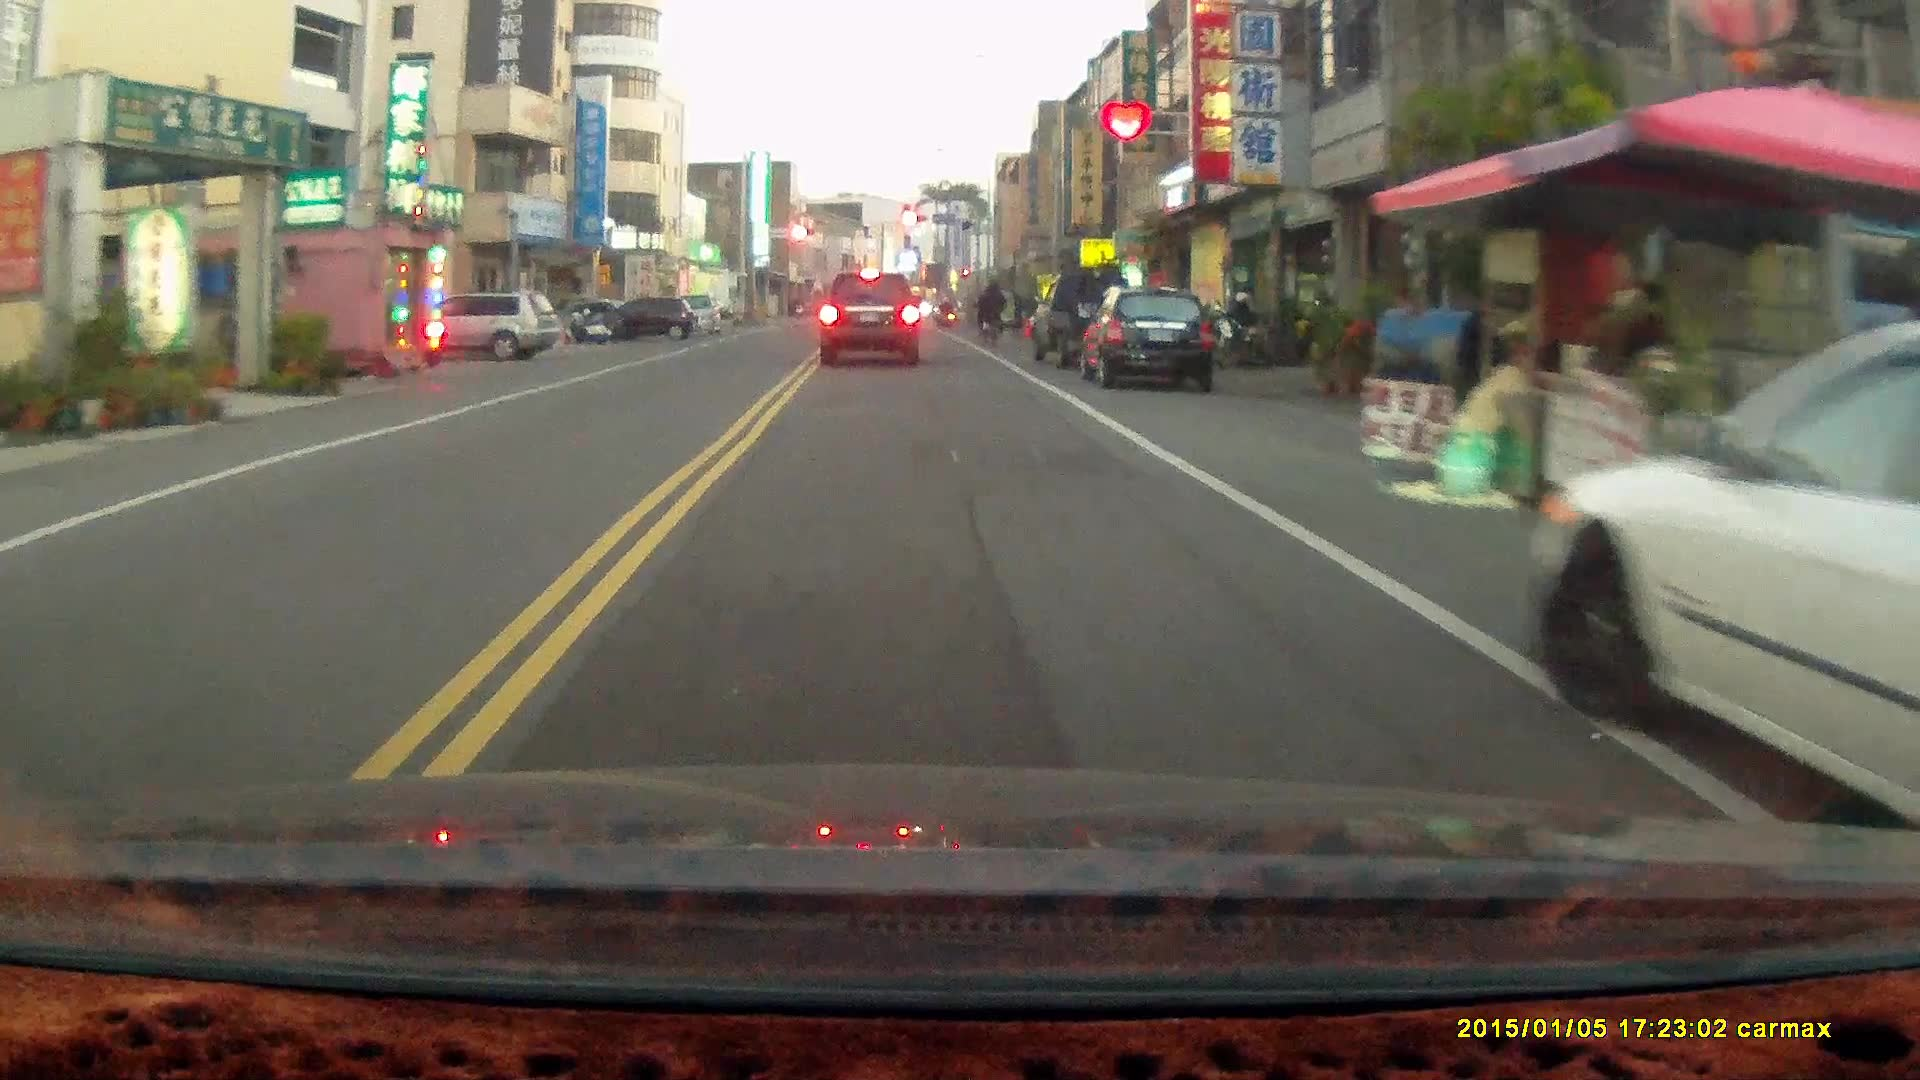rider: (976, 276, 1006, 349)
vehicle: (1546, 295, 1920, 828), (1082, 282, 1221, 392), (387, 293, 560, 366), (817, 269, 923, 368), (583, 295, 698, 342)
